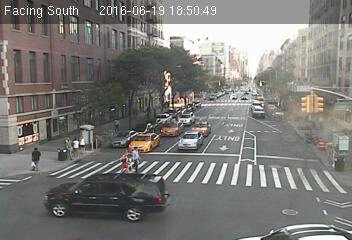neg: (196, 45, 219, 75), (117, 61, 140, 91), (55, 184, 76, 212), (260, 39, 280, 67), (218, 189, 238, 215), (299, 88, 318, 113), (70, 64, 88, 89), (299, 143, 317, 166), (162, 55, 179, 78), (185, 124, 201, 146), (285, 193, 301, 215), (234, 132, 249, 152), (252, 105, 262, 119)
pos: (126, 144, 146, 171), (26, 144, 44, 168), (60, 134, 77, 156), (119, 156, 132, 173), (74, 137, 84, 151)
